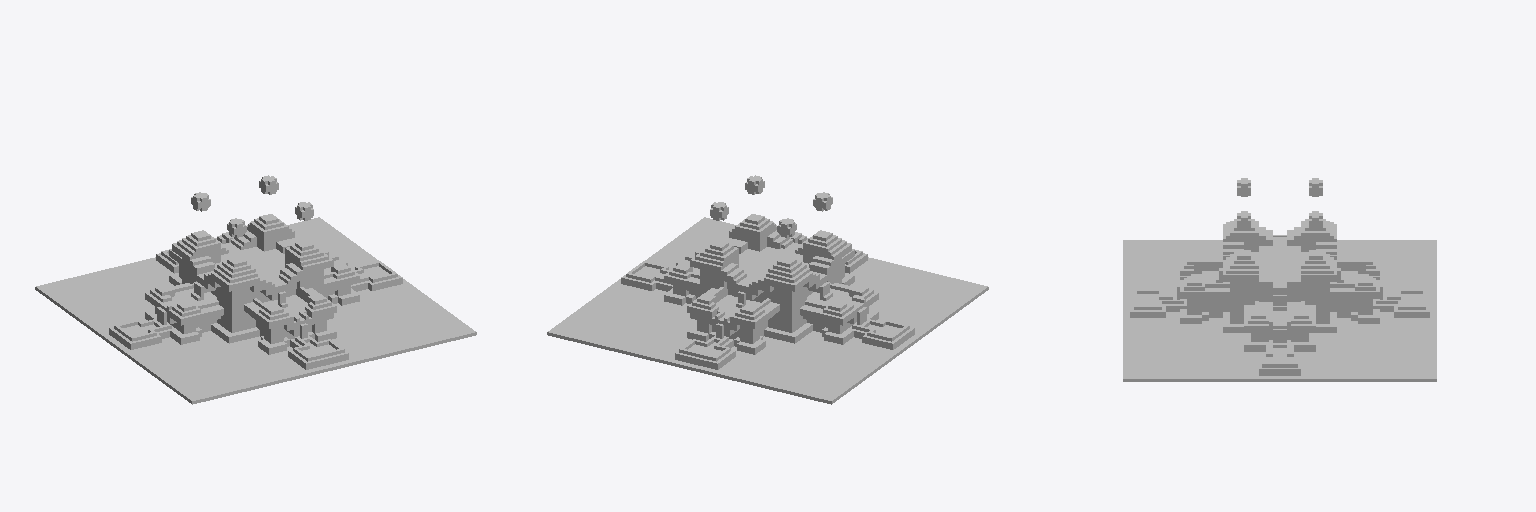
The model's file is Package 01 Necro Dungeon-7.obj.
3 renders of one model, left to right at view 1: azimuth 30°, elevation 25°; view 2: azimuth 150°, elevation 25°; view 3: azimuth 270°, elevation 25°, orthographic.
Visible parts, largest first — view 1: object 1; view 2: object 1; view 3: object 1.
Boxes of the visible parts, box(x1,y1,x2,y2) form: object 1: box(35, 175, 476, 404); object 1: box(547, 175, 988, 404); object 1: box(1123, 178, 1436, 381).
Size of the model in its own units: 9.2 by 3.5 by 8.8.